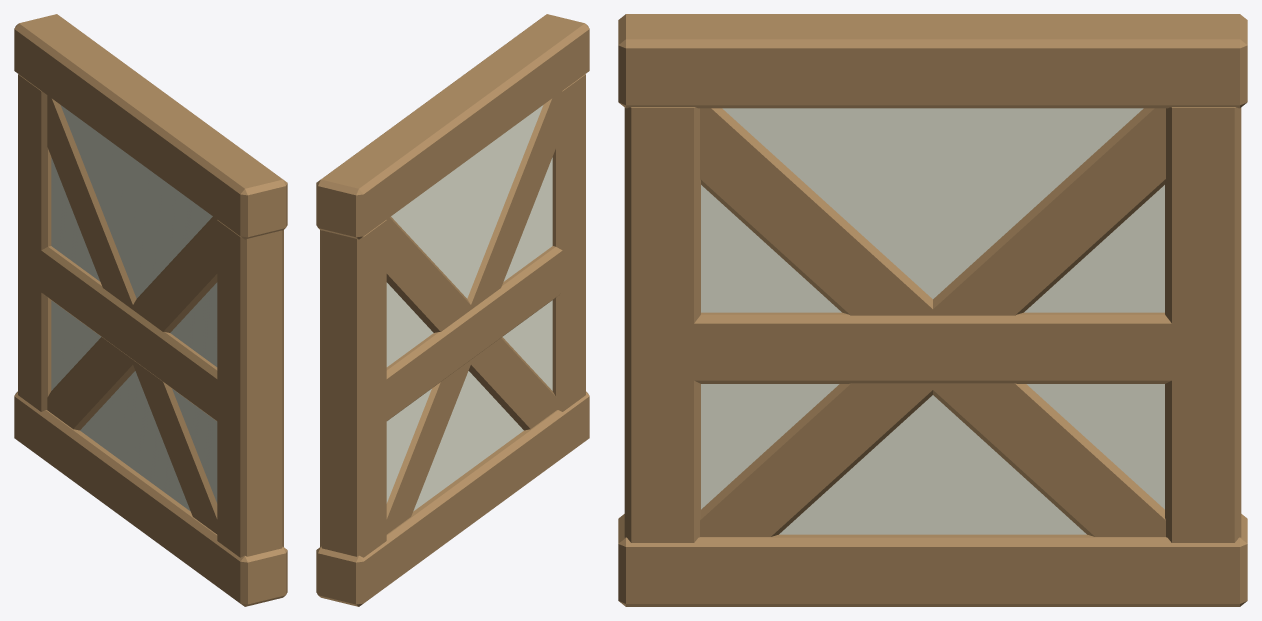
File: BaseWall_6.fbx
The picture shows the model from 3 angles, left to right: view 1: azimuth 30°, elevation 25°; view 2: azimuth 150°, elevation 25°; view 3: azimuth 270°, elevation 25°; orthographic projection. The views are drawn at different scales.
Parts seen in each view (by area): view 1: BaseWall.010; view 2: BaseWall.010; view 3: BaseWall.010.
Part boxes in pixels (box(x1,y1,x2,y2)): BaseWall.010: box(14, 14, 287, 606); BaseWall.010: box(316, 14, 589, 606); BaseWall.010: box(618, 14, 1247, 606).
Bounding box in the file's own units: 0.2753 × 2.32 × 2.33.
